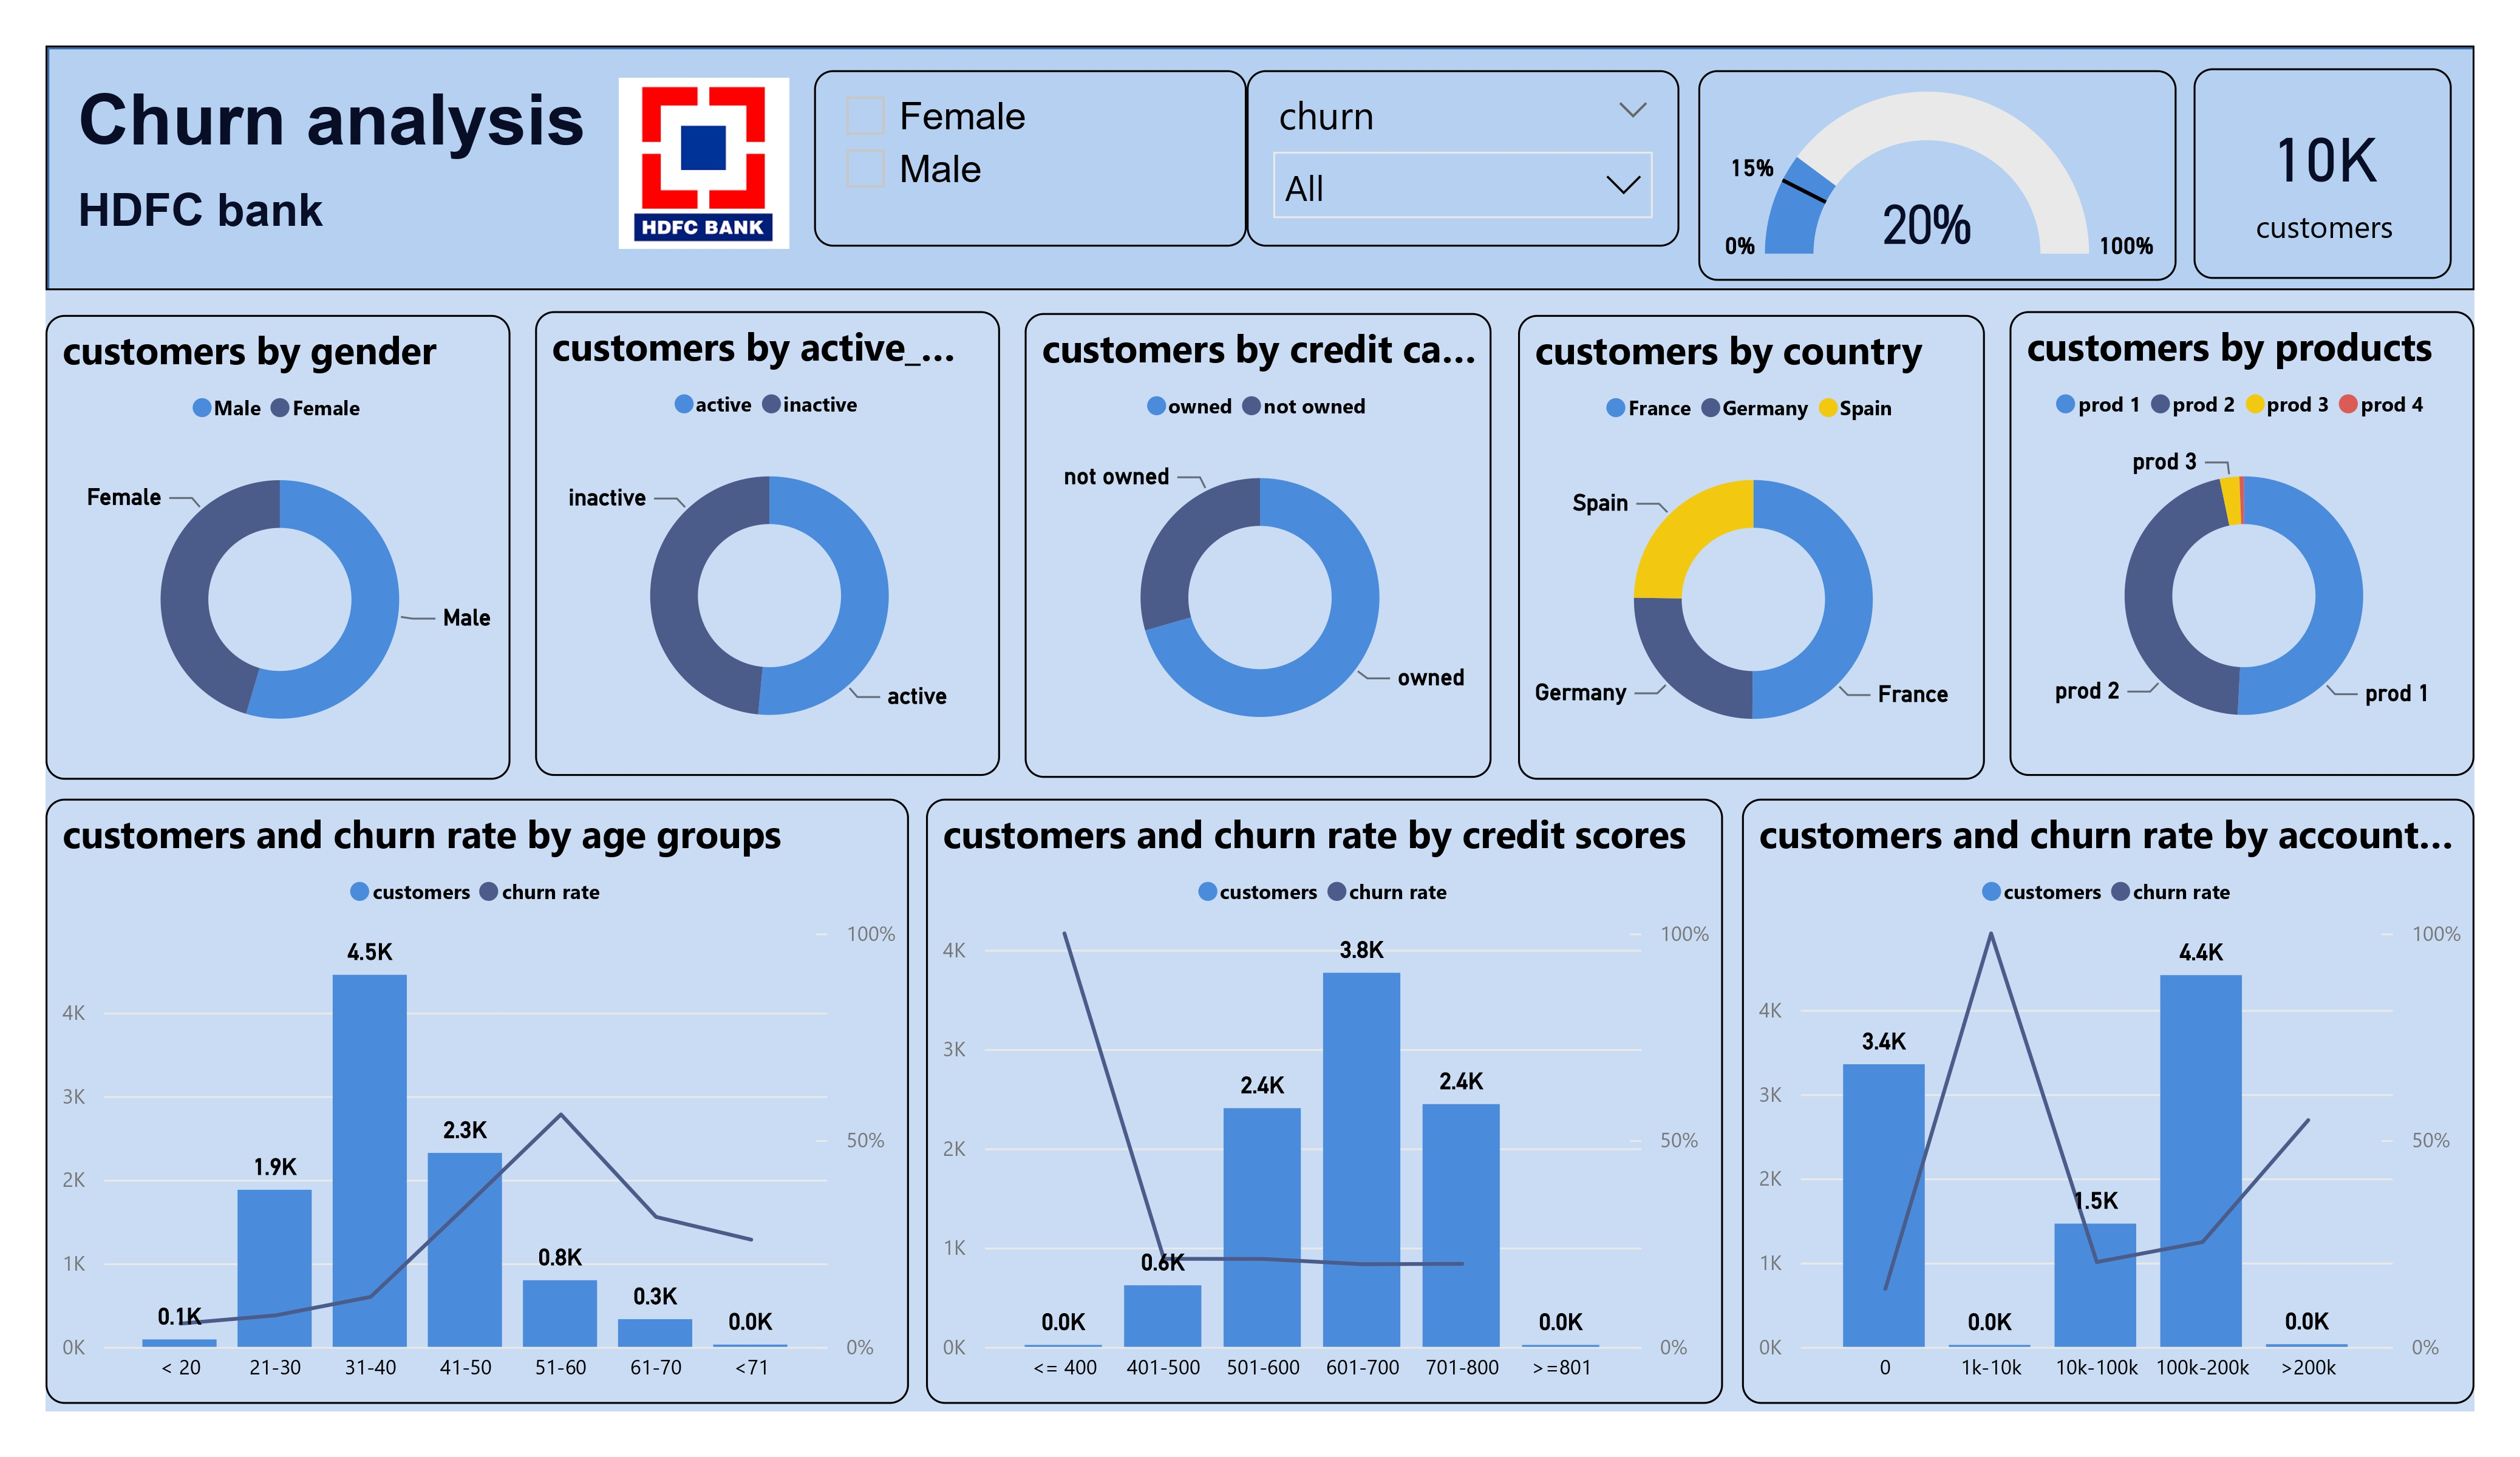

The page's visual inventory and layout, read from the dashboard file:
{"tool":"powerbi","page":{"name":"Page 1","canvas":[1280,720],"ordinal":0},"visuals":[{"type":"shape","box":[0,0,1279.6,129],"z":0},{"type":"card","fields":{"Values":["account balance groups.customers"]},"box":[1132.5,12.1,135.1,111],"z":1000},{"type":"donutChart","fields":{"Y":["account balance groups.customers"],"Category":["customer data.gender"]},"box":[0,142,245,245],"z":2000},{"type":"donutChart","fields":{"Y":["account balance groups.customers"],"Category":["customer data.active_member"]},"box":[258.2,139.9,244.8,244.8],"z":3000},{"type":"donutChart","fields":{"Y":["account balance groups.customers"],"Category":["customer data.credit card stuatus"]},"box":[516.3,141.1,246,244.8],"z":4000},{"type":"donutChart","fields":{"Y":["account balance groups.customers"],"Category":["customer data.country"]},"box":[775.5,142.3,246,244.8],"z":5000},{"type":"donutChart","fields":{"Y":["account balance groups.customers"],"Category":["customer data.products"]},"box":[1034.8,139.9,244.8,244.8],"z":6000},{"type":"lineClusteredColumnComboChart","fields":{"Category":["age groups.age groups"],"Y":["account balance groups.customers"],"Y2":["account balance groups.churn rate"]},"box":[0,396.8,454.7,319.6],"z":7000},{"type":"lineClusteredColumnComboChart","fields":{"Y":["account balance groups.customers"],"Y2":["account balance groups.churn rate"],"Category":["credit score groups.credit scores"]},"box":[464.3,396.8,419.7,319.6],"z":8000},{"type":"lineClusteredColumnComboChart","fields":{"Y":["account balance groups.customers"],"Y2":["account balance groups.churn rate"],"Category":["account balance groups.account balance"]},"box":[893.7,396.8,385.9,319.6],"z":9000},{"type":"slicer","fields":{"Values":["customer data.churn"]},"box":[633.2,13.3,227.9,92.9],"z":10000},{"type":"gauge","fields":{"Y":["account balance groups.churn rate"],"MinValue":["Sum(customer data.min  churn rate)"],"MaxValue":["Max(customer data.max churn rate)"],"TargetValue":["Min(customer data.target churn rate)"]},"box":[870.8,13.3,252.1,111],"z":11000},{"type":"slicer","fields":{"Values":["customer data.gender"]},"box":[405.2,13.3,227.9,92.9],"z":12000},{"type":"textbox","box":[12.1,13.3,295.5,54.3],"z":13000},{"type":"textbox","box":[12.1,67.5,156.8,39.8],"z":14000},{"type":"image","box":[278.6,12.1,136.3,100.1],"z":15000}]}

Visuals, with their boxes in screenshot pixels (x1, y1, x2, y2):
shape: crop(46, 46, 2474, 290)
card - account balance groups.customers: crop(2195, 69, 2451, 279)
donutChart - account balance groups.customers x customer data.gender: crop(46, 315, 511, 779)
donutChart - account balance groups.customers x customer data.active_member: crop(536, 311, 1000, 775)
donutChart - account balance groups.customers x customer data.credit card stuatus: crop(1025, 313, 1492, 778)
donutChart - account balance groups.customers x customer data.country: crop(1517, 316, 1984, 780)
donutChart - account balance groups.customers x customer data.products: crop(2009, 311, 2474, 775)
lineClusteredColumnComboChart - age groups.age groups x account balance groups.customers: crop(46, 798, 908, 1405)
lineClusteredColumnComboChart - account balance groups.customers x account balance groups.churn rate: crop(927, 798, 1723, 1405)
lineClusteredColumnComboChart - account balance groups.customers x account balance groups.churn rate: crop(1742, 798, 2474, 1405)
slicer - customer data.churn: crop(1247, 71, 1680, 247)
gauge - account balance groups.churn rate x Sum(customer data.min  churn rate): crop(1698, 71, 2176, 281)
slicer - customer data.gender: crop(814, 71, 1247, 247)
textbox: crop(69, 71, 629, 174)
textbox: crop(69, 174, 366, 249)
image: crop(574, 69, 833, 259)
